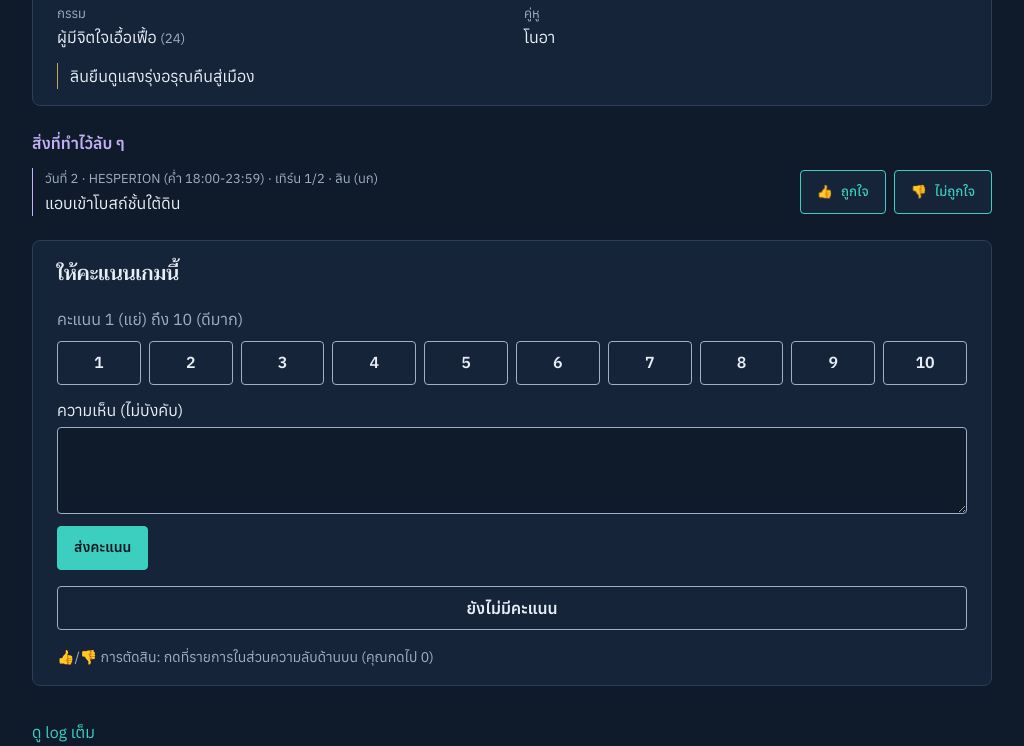
Test: GEN-091 end page › C3: after sending, the form becomes "ส่งแล้ว · แก้ได้" with the learning status; it can be opened again
The width and height of the screenshot is (1024, 746).
(page scrolled)
Click the radio button labelled "9" at [833, 362], box [791, 340, 875, 384]
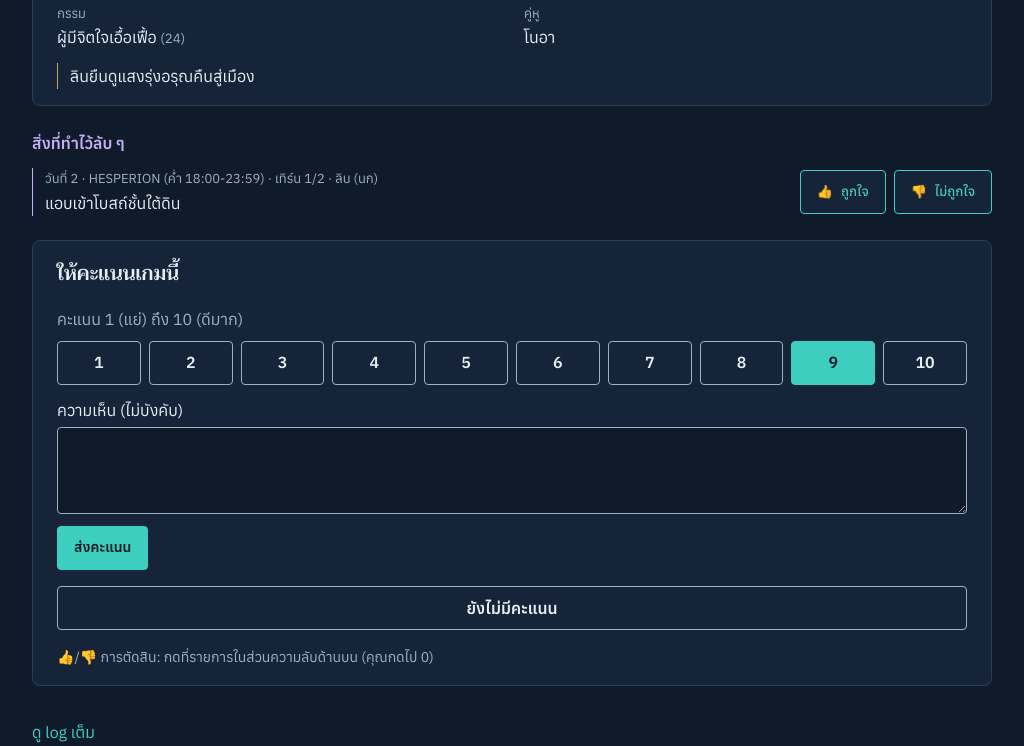
Type "สนุกมาก" into the text box labelled "ความเห็น (ไม่บังคับ)" at [512, 471], box [57, 427, 967, 514]
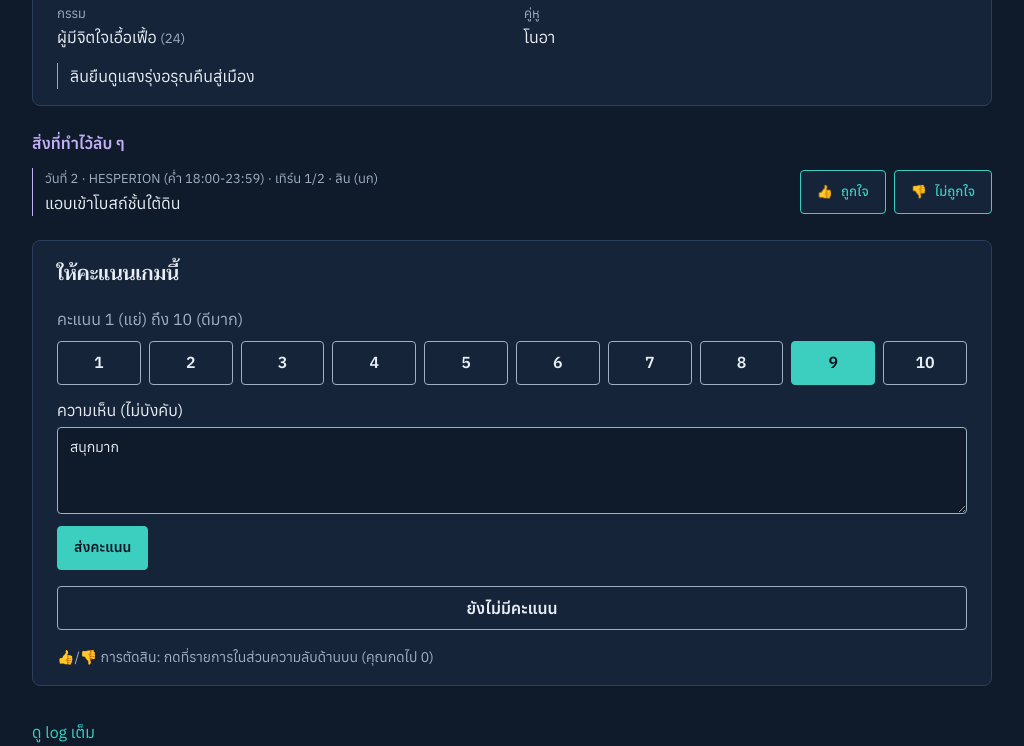
Click the button "ส่งคะแนน" at [103, 548], box [57, 526, 148, 570]
(page scrolled)
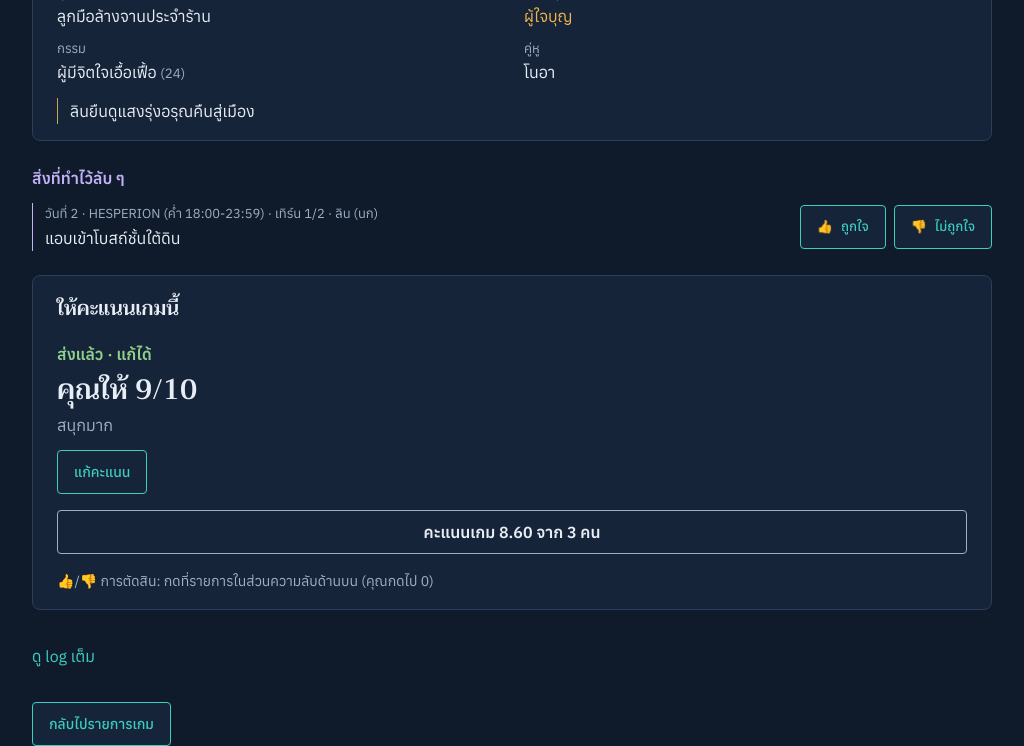
Check: the text "ส่งแล้ว · แก้ได้" is shown, box [57, 341, 152, 368]
Check: the radio button is gone
Check: the text "คุณให้ 9/10" is shown, box [57, 372, 197, 408]
Click the button "แก้คะแนน" at [102, 472], box [57, 450, 147, 494]
(page scrolled)
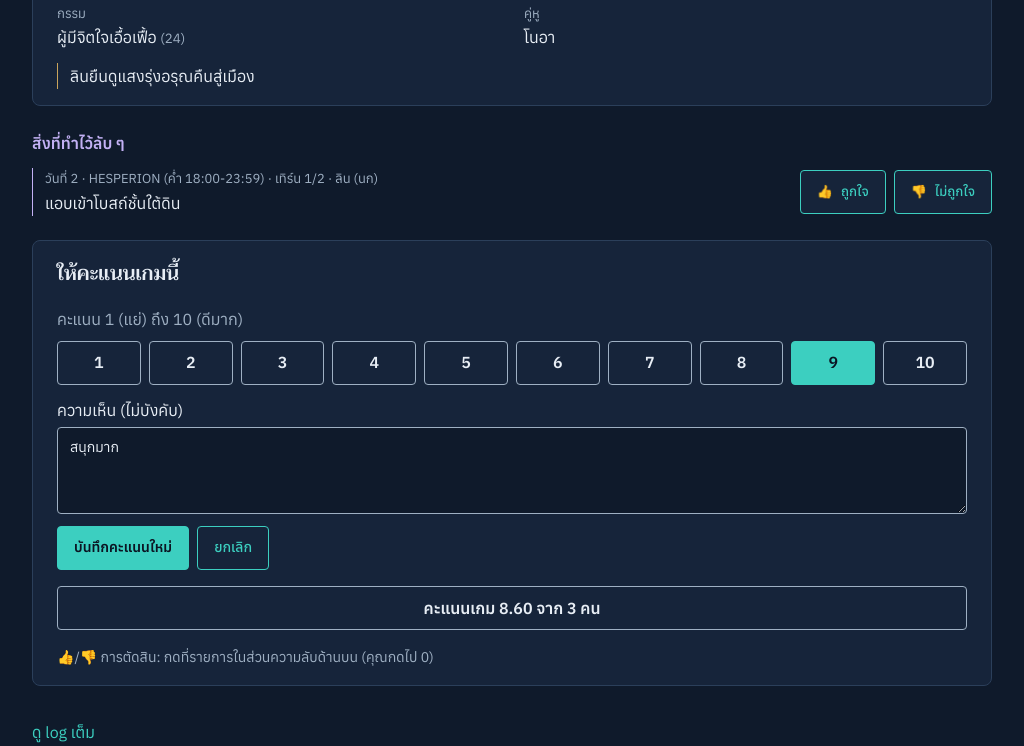
Check: the radio button labelled "9" is checked, box [791, 340, 875, 384]
Check: the text box labelled "ความเห็น (ไม่บังคับ)" holds "สนุกมาก", box [57, 427, 967, 514]
